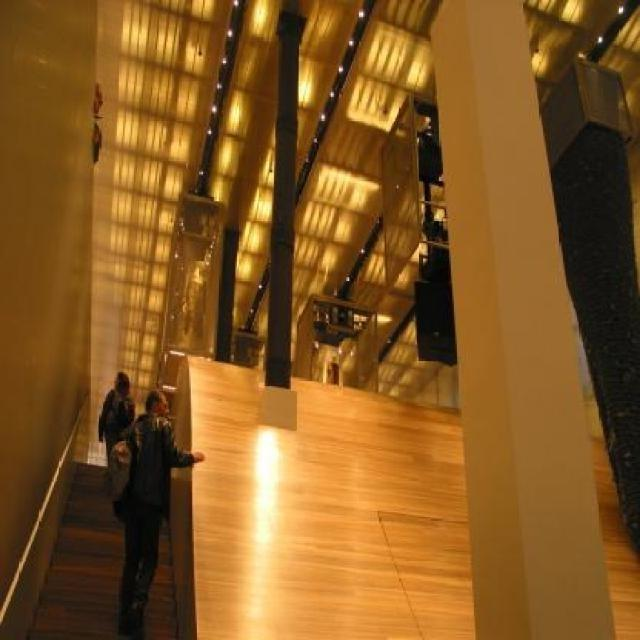stair: (24, 463, 180, 640)
